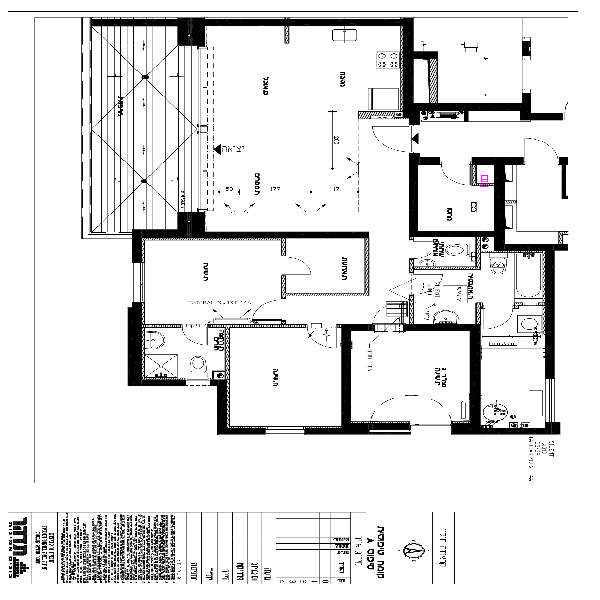door: (372, 121, 415, 154), (479, 303, 522, 332), (278, 253, 317, 281), (525, 134, 561, 164), (306, 324, 341, 354), (180, 320, 210, 354), (437, 153, 467, 187)
room: (175, 20, 416, 236), (131, 230, 372, 324), (340, 324, 482, 434), (218, 324, 348, 437), (410, 153, 506, 238)
wall: (133, 228, 369, 240), (468, 328, 491, 437), (123, 304, 145, 384), (543, 252, 556, 375), (399, 23, 414, 110), (407, 158, 420, 244), (344, 326, 352, 436), (176, 211, 207, 237), (493, 158, 501, 239), (180, 29, 206, 47)
window: (129, 262, 147, 301), (267, 424, 303, 438), (546, 379, 557, 424)
